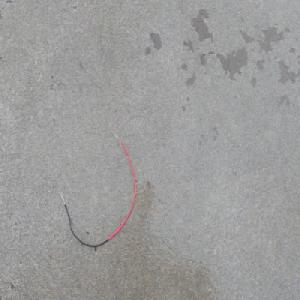Wire: (59, 131, 137, 249)
